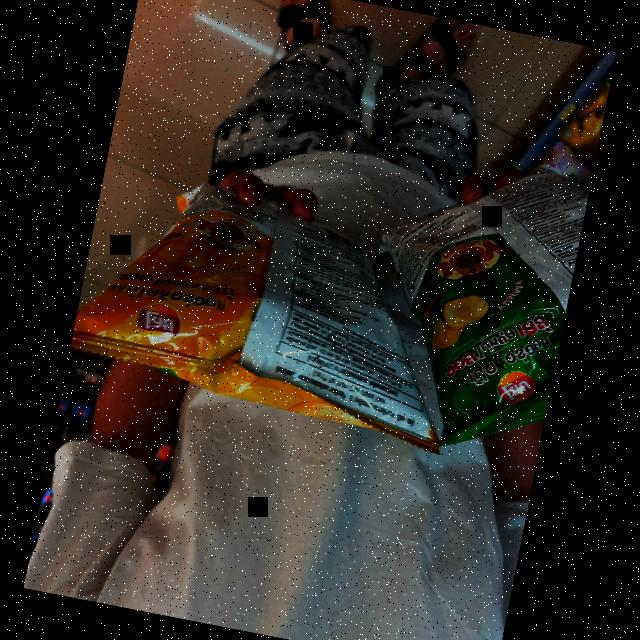snack_bag: (61, 164, 476, 466), (332, 130, 594, 464)
